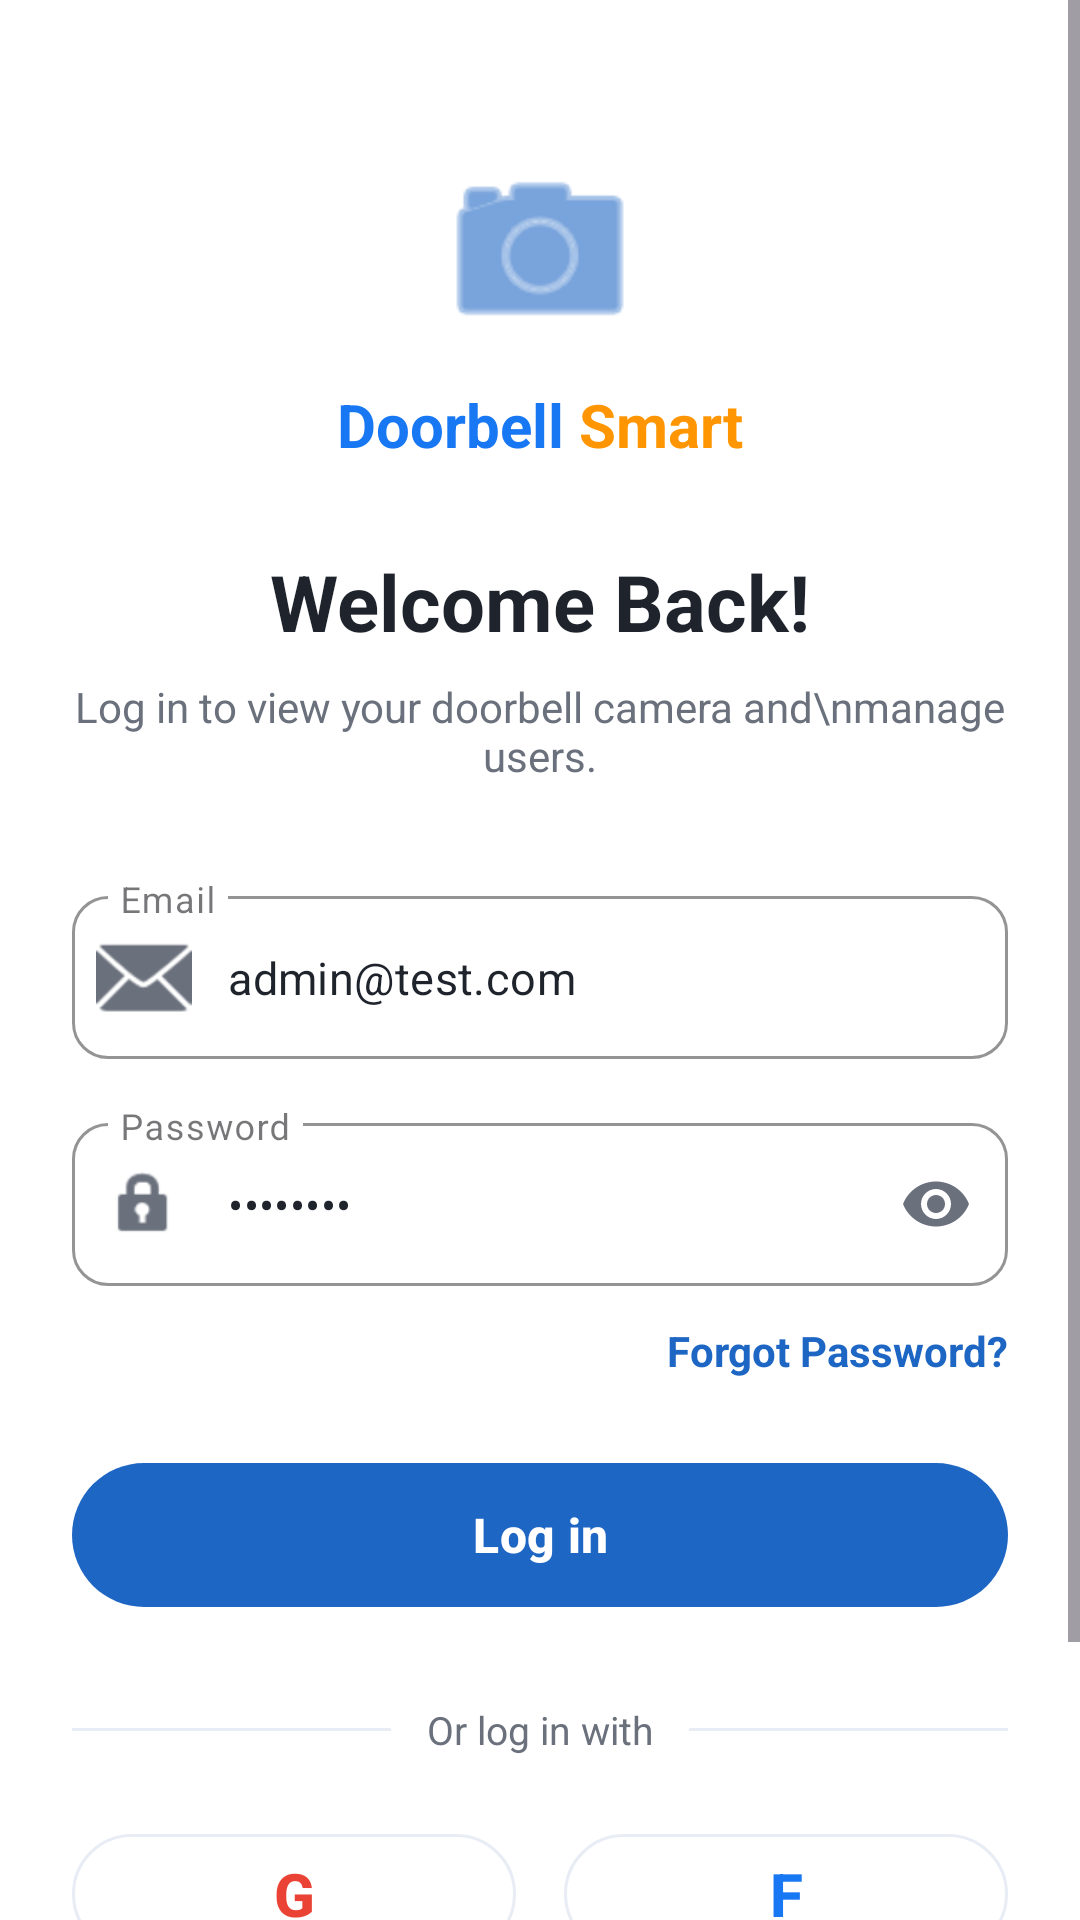

Named icons in this screenshot (1080×1920) and their bounding boxes, (x1, y1, x2, y2):
camera: (456, 182, 623, 315)
